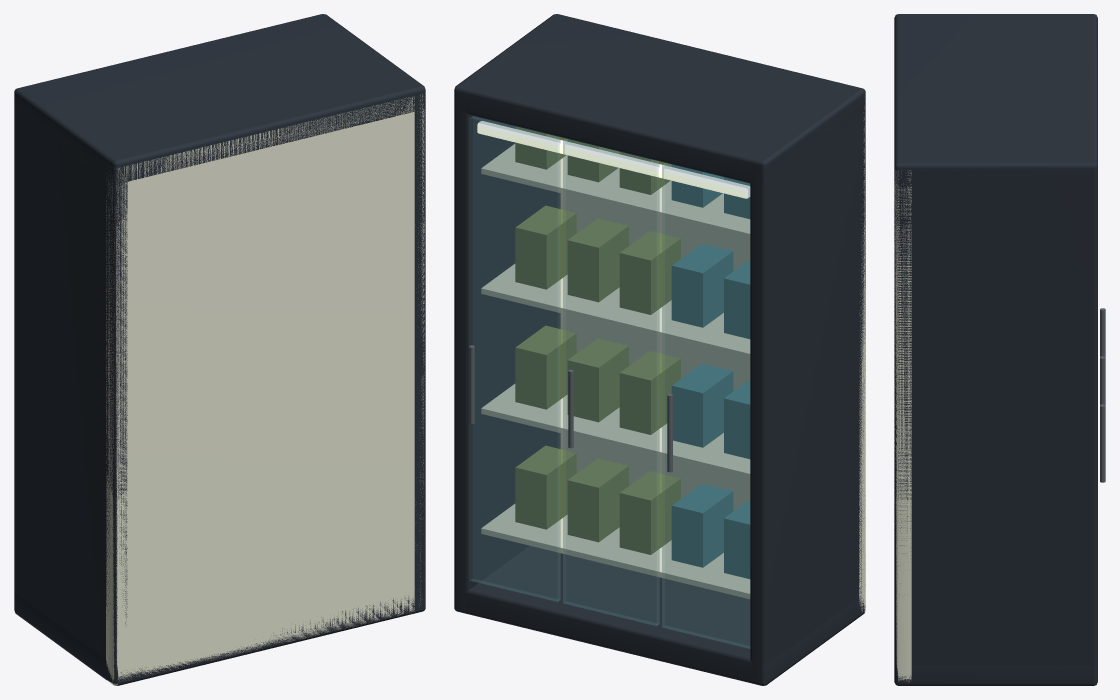
File: refrigerator.glb
3 views of the same model, side by side, from view 1: azimuth 30°, elevation 25°; view 2: azimuth 150°, elevation 25°; view 3: azimuth 270°, elevation 25° (orthographic).
Parts seen in each view (by area): view 1: interior-white, interior-navy; view 2: interior-navy, glass-shop-glass, interior-white, product-detail-green, product-detail-blue, interior-warm-light, interior-metal; view 3: interior-navy, interior-white, interior-metal.
Boxes of the visible parts, x1=… form: interior-white: x1=106, y1=94, x2=424, y2=685; interior-navy: x1=14, y1=14, x2=425, y2=685; interior-navy: x1=454, y1=14, x2=865, y2=685; glass-shop-glass: x1=469, y1=116, x2=749, y2=648; interior-white: x1=481, y1=107, x2=865, y2=612; product-detail-green: x1=515, y1=126, x2=680, y2=554; product-detail-blue: x1=671, y1=164, x2=750, y2=578; interior-warm-light: x1=477, y1=121, x2=750, y2=198; interior-metal: x1=469, y1=345, x2=672, y2=472; interior-navy: x1=894, y1=14, x2=1097, y2=685; interior-white: x1=894, y1=170, x2=911, y2=684; interior-metal: x1=1100, y1=308, x2=1105, y2=482.
Bounding box in the file's own units: 1.5 × 2.41 × 0.882.
